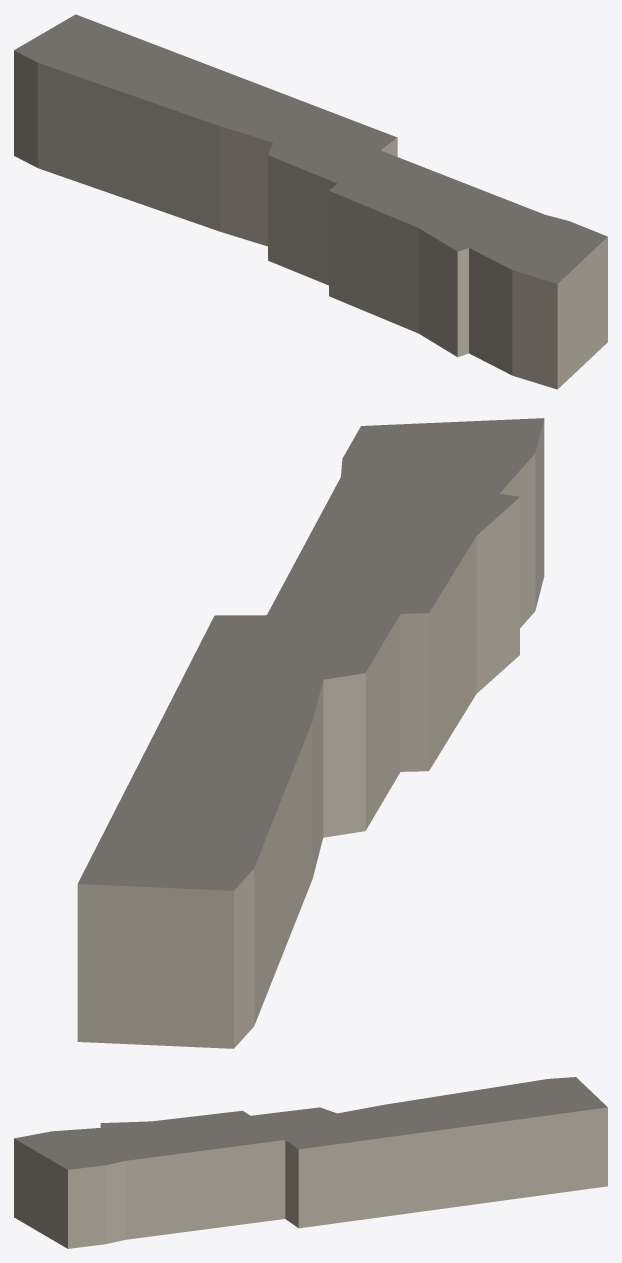
3 views of the same model, one above another, from view 1: azimuth 30°, elevation 25°; view 2: azimuth 150°, elevation 25°; view 3: azimuth 270°, elevation 25° (orthographic). The views are drawn at different scales.
Parts seen in each view (by area): view 1: HP-w435452361; view 2: HP-w435452361; view 3: HP-w435452361.
Part boxes in pixels (x1,y1,x2,y2): HP-w435452361: (14, 14, 607, 389); HP-w435452361: (77, 418, 544, 1048); HP-w435452361: (14, 1077, 607, 1248).
Size of the model in its own units: 45.42 by 18 by 123.
